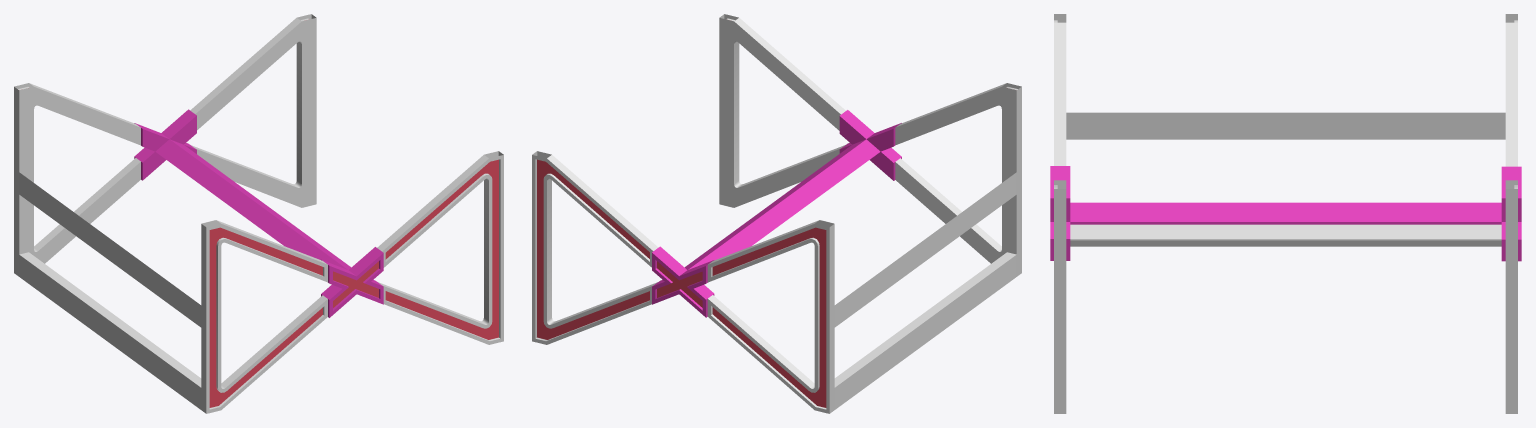
Rendered from Risers.fbx.
3 views of the same model, side by side, from view 1: azimuth 30°, elevation 25°; view 2: azimuth 150°, elevation 25°; view 3: azimuth 270°, elevation 25° (orthographic). The views are drawn at different scales.
Parts seen in each view (by area): view 1: Plane.019, Plane.008, Cube.026, Plane.010, Cube.027; view 2: Plane.008, Plane.019, Cube.026, Plane.010, Cube.027; view 3: Cube.027, Plane.010, Cube.026, Plane.008, Plane.019.
Boxes of the visible parts, bbox=[...] form: Plane.019: bbox=[201, 151, 503, 413]; Plane.008: bbox=[14, 14, 316, 276]; Cube.026: bbox=[19, 252, 201, 409]; Plane.010: bbox=[155, 139, 351, 269]; Cube.027: bbox=[19, 172, 201, 327]; Plane.008: bbox=[532, 151, 834, 413]; Plane.019: bbox=[719, 14, 1021, 276]; Cube.026: bbox=[834, 252, 1016, 409]; Plane.010: bbox=[684, 139, 880, 269]; Cube.027: bbox=[834, 172, 1016, 327]; Cube.027: bbox=[1066, 112, 1505, 139]; Plane.010: bbox=[1070, 202, 1501, 224]; Cube.026: bbox=[1070, 224, 1501, 246]; Plane.008: bbox=[1501, 14, 1521, 413]; Plane.019: bbox=[1050, 14, 1070, 413].
Size of the model in its own units: 5 by 3 by 5.69.
